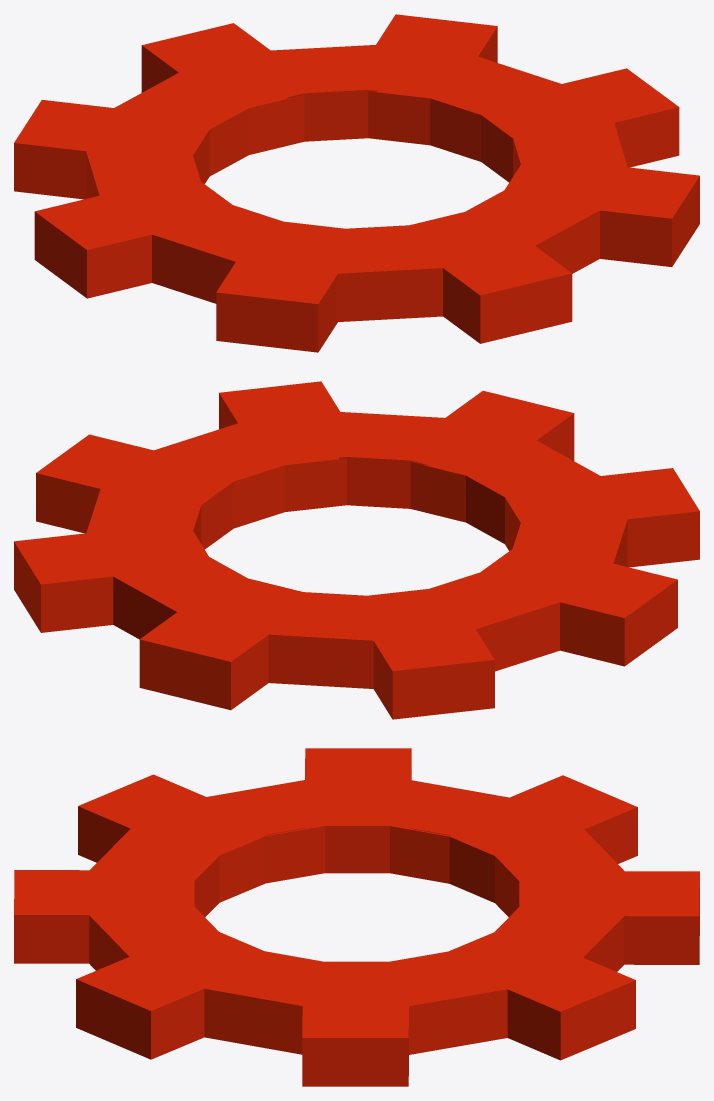
File: Gigi.fbx
The picture shows the model from 3 angles, top to bottom: view 1: azimuth 30°, elevation 25°; view 2: azimuth 150°, elevation 25°; view 3: azimuth 270°, elevation 25°; orthographic projection.
Parts seen in each view (by area): view 1: Cylinder; view 2: Cylinder; view 3: Cylinder.
Boxes of the visible parts, x1=… form: Cylinder: x1=14, y1=14, x2=699, y2=352; Cylinder: x1=14, y1=381, x2=699, y2=719; Cylinder: x1=14, y1=748, x2=699, y2=1086.
Bounding box in the file's own units: 251 × 19.68 × 251.
